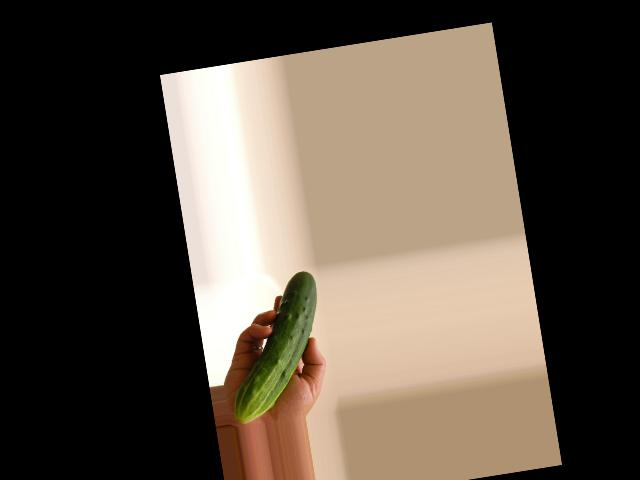cucumber: (213, 269, 334, 424)
